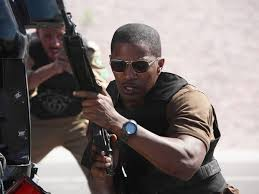Gun: (55, 6, 125, 149)
